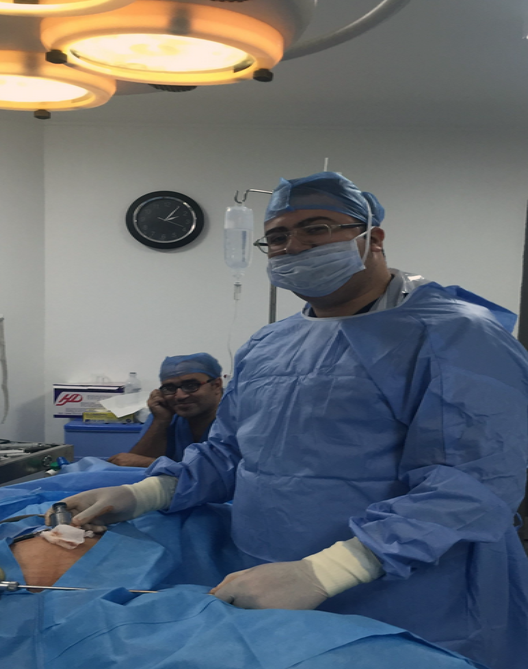mask_weared_incorrect: (246, 176, 385, 302)
